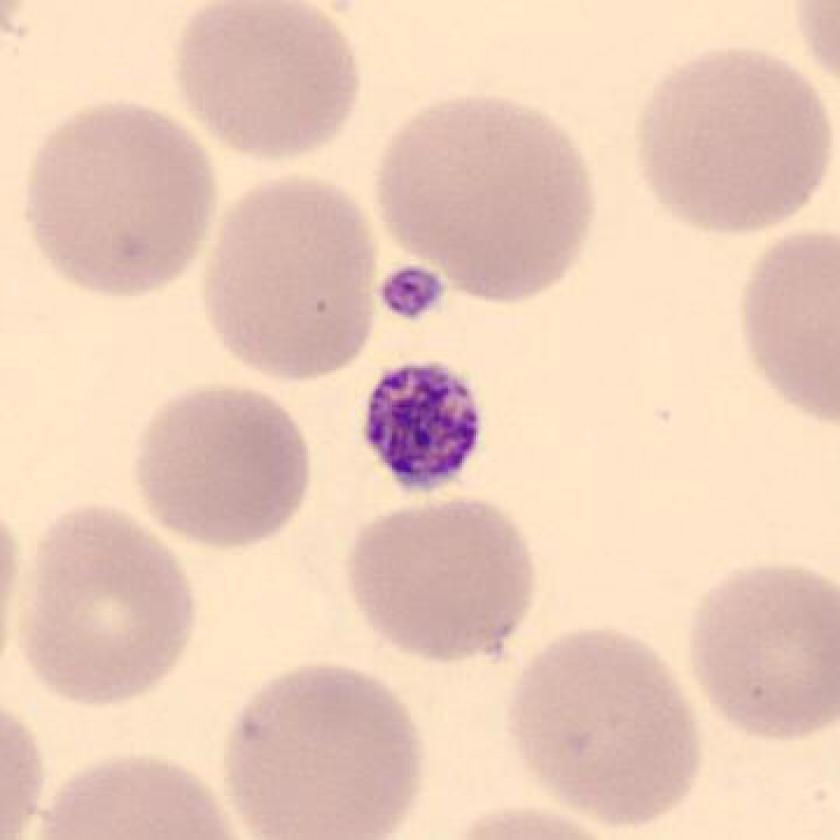platelets: (363, 358, 489, 506), (372, 256, 454, 325)
